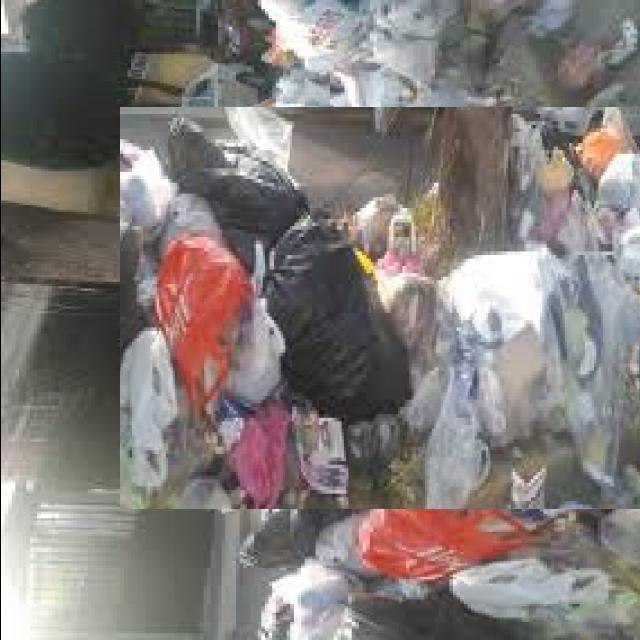Trashbag: (261, 212, 414, 428), (168, 116, 305, 261)
